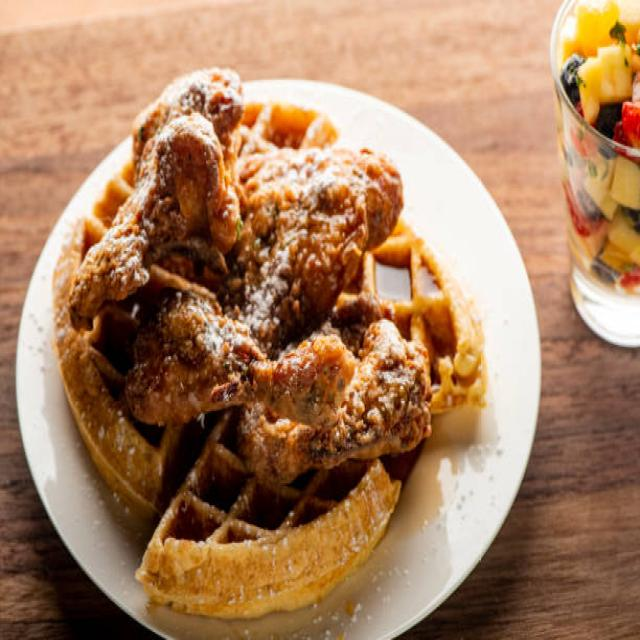Frango: (52, 75, 484, 620)
